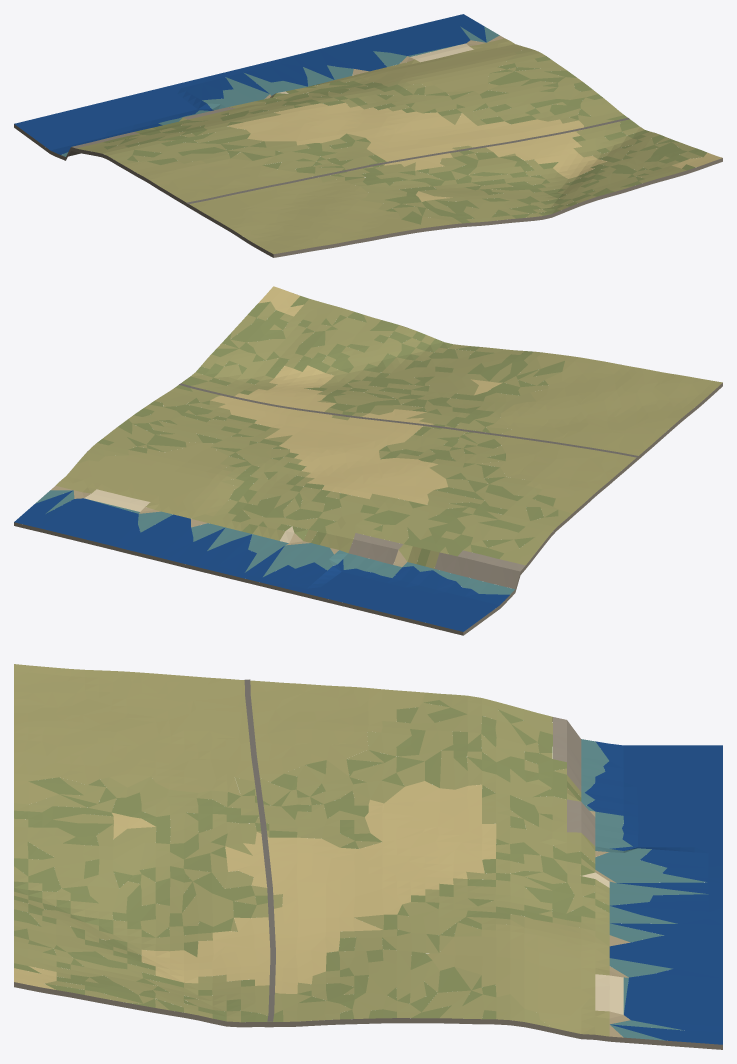
Rendered from parca_+5_+2-uzak.glb.
The picture shows the model from 3 angles, top to bottom: view 1: azimuth 30°, elevation 25°; view 2: azimuth 150°, elevation 25°; view 3: azimuth 270°, elevation 25°; orthographic projection. The views are drawn at different scales.
Parts seen in each view (by area): view 1: parca_+5_+2_arazi_uzak, parca_+5_+2_yollar_uzak; view 2: parca_+5_+2_arazi_uzak, parca_+5_+2_yollar_uzak; view 3: parca_+5_+2_arazi_uzak, parca_+5_+2_yollar_uzak.
Part boxes in pixels (bbox=[...]): parca_+5_+2_arazi_uzak: bbox=[14, 14, 722, 257]; parca_+5_+2_yollar_uzak: bbox=[186, 118, 629, 203]; parca_+5_+2_arazi_uzak: bbox=[14, 286, 722, 635]; parca_+5_+2_yollar_uzak: bbox=[179, 383, 638, 457]; parca_+5_+2_arazi_uzak: bbox=[14, 664, 722, 1049]; parca_+5_+2_yollar_uzak: bbox=[244, 679, 275, 1021].
Bounding box in the file's own units: 1002 × 135 × 1000.
